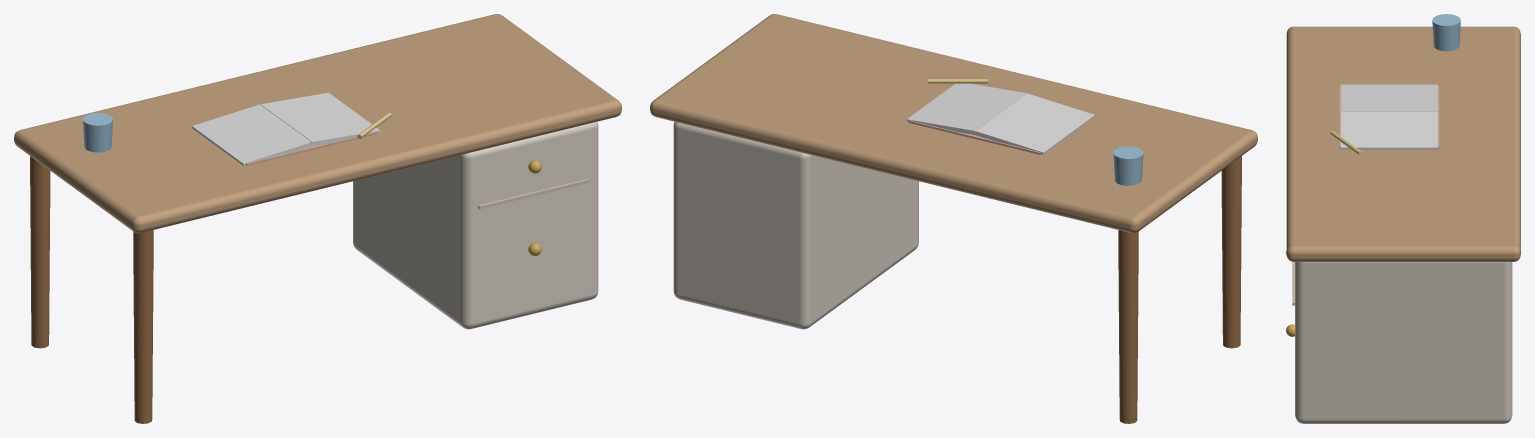
The model's file is furn_desk_ph.glb.
3 renders of one model, left to right at view 1: azimuth 30°, elevation 25°; view 2: azimuth 150°, elevation 25°; view 3: azimuth 270°, elevation 25°, orthographic. The views are drawn at different scales.
Visible parts, largest first — view 1: furn_desk; view 2: furn_desk; view 3: furn_desk.
Boxes of the visible parts, x1,y1,x2,y2 form: furn_desk: [14, 14, 621, 423]; furn_desk: [650, 14, 1257, 423]; furn_desk: [1286, 14, 1520, 423].
Bounding box in the file's own units: 1.86 × 0.87 × 0.8214.
